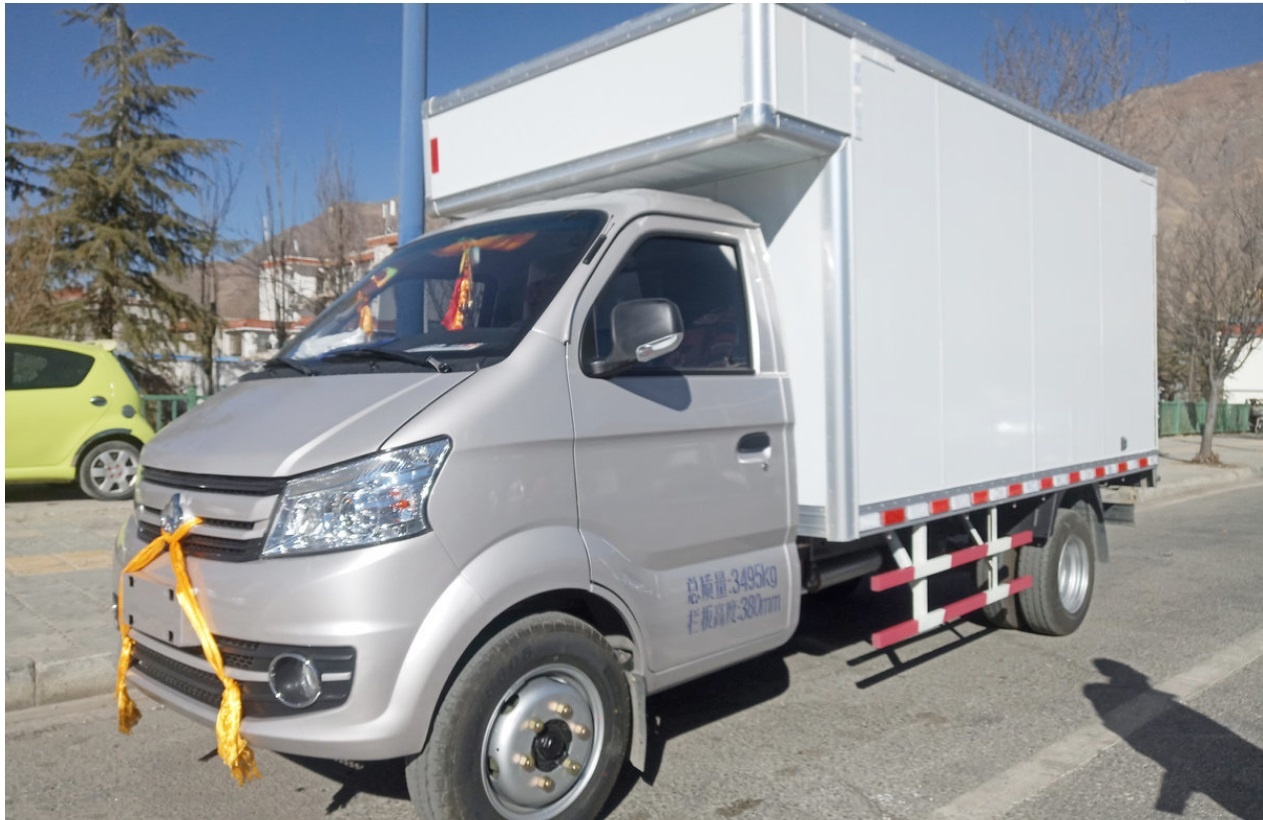truck: (127, 51, 1175, 772)
